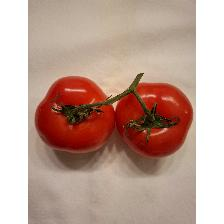Tomate: (32, 62, 196, 160)
